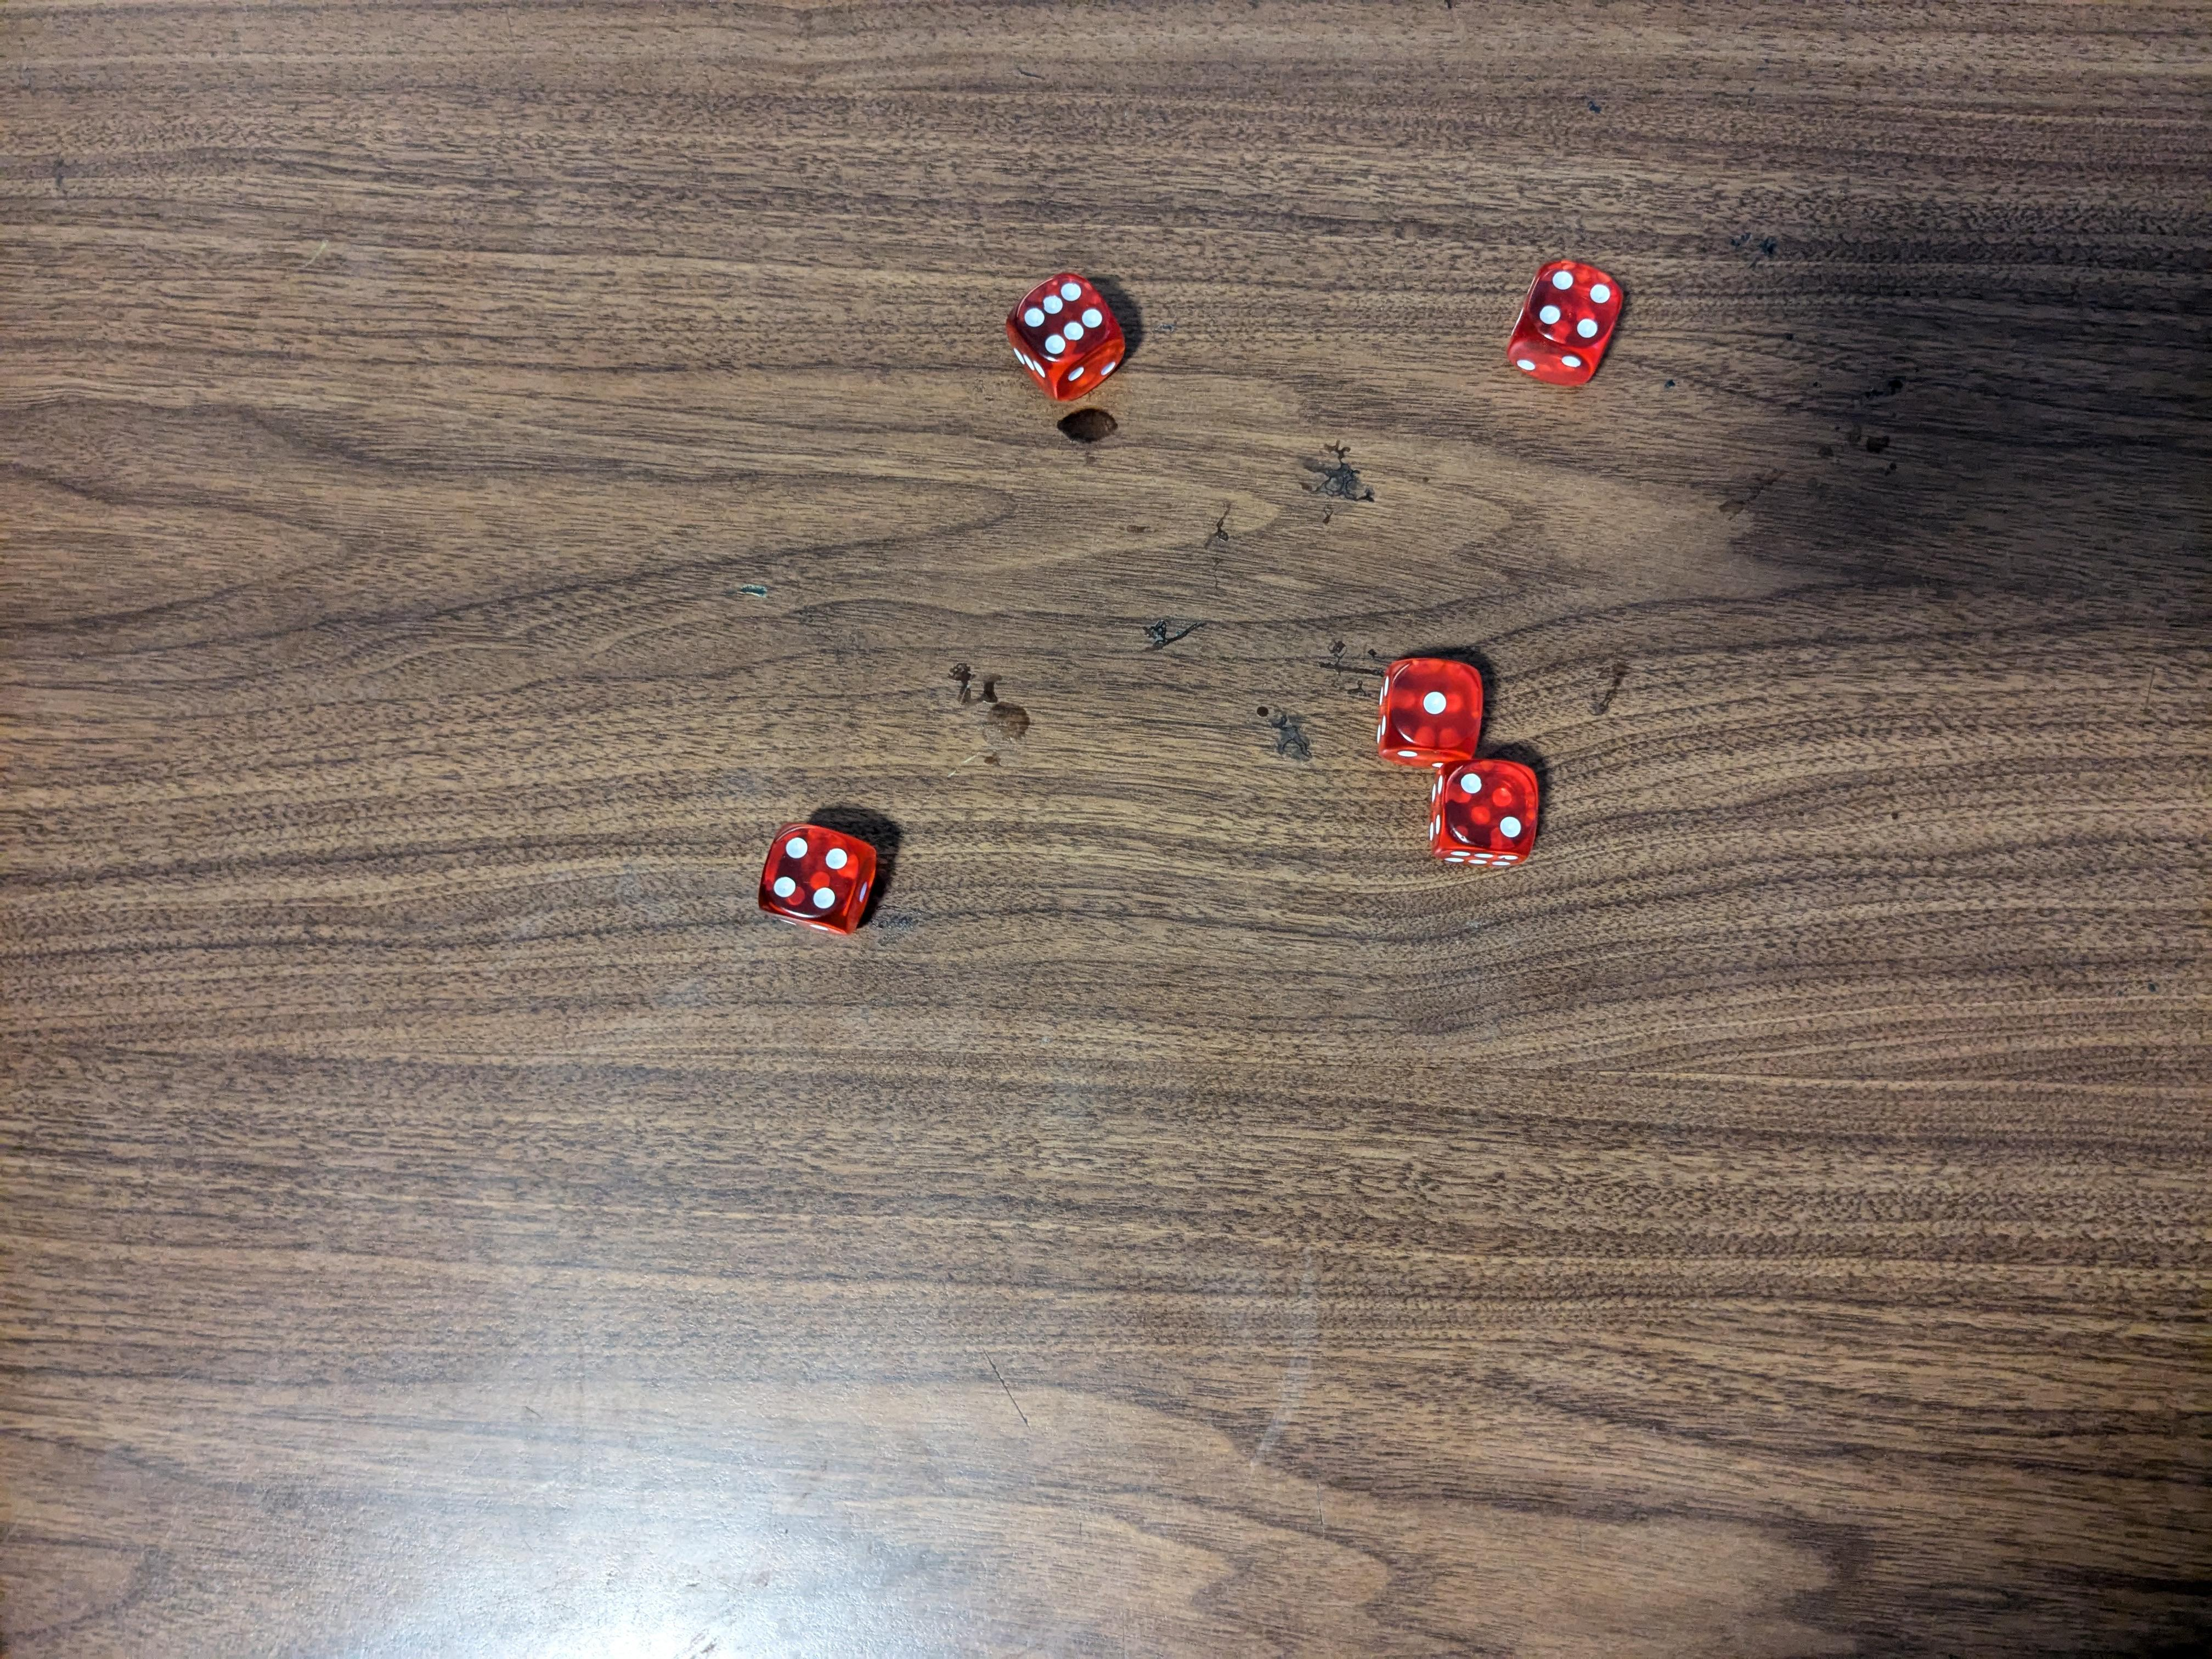four: (758, 821, 878, 934), (1514, 261, 1620, 383)
one: (1371, 653, 1480, 770)
six: (1010, 270, 1125, 403)
two: (1432, 756, 1545, 873)
